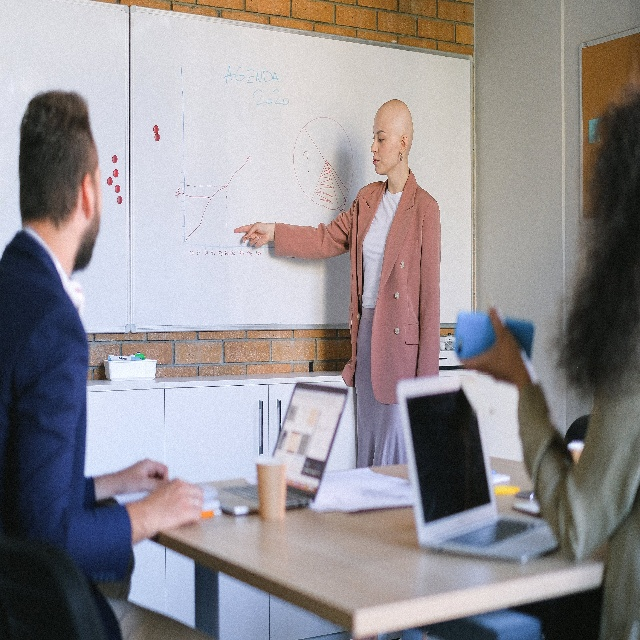Sin_guantes: (458, 306, 525, 385), (143, 482, 205, 532), (114, 459, 166, 492), (235, 220, 274, 248)
